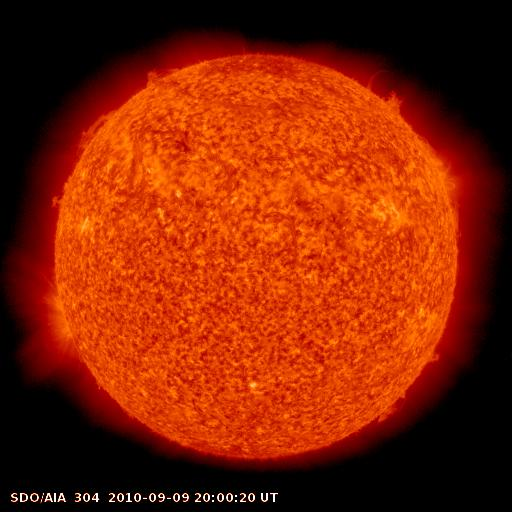prominence: (362, 60, 411, 120), (70, 103, 124, 155), (366, 384, 416, 429), (134, 56, 190, 92), (413, 344, 451, 376), (43, 184, 71, 217)
